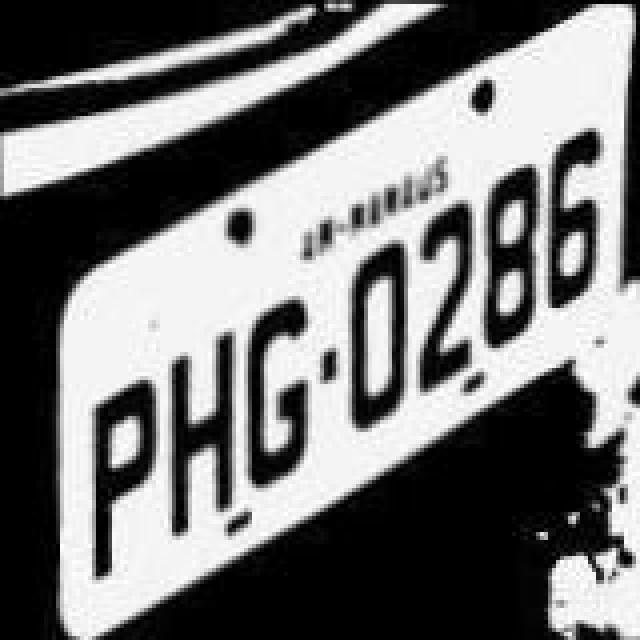2: (412, 202, 480, 398)
6: (542, 122, 610, 318)
8: (476, 160, 548, 348)
G: (238, 290, 314, 490)
H: (162, 330, 238, 542)
O: (342, 238, 414, 430)
P: (80, 374, 160, 578)
